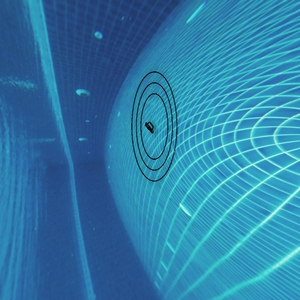circle: (127, 73, 187, 189)
